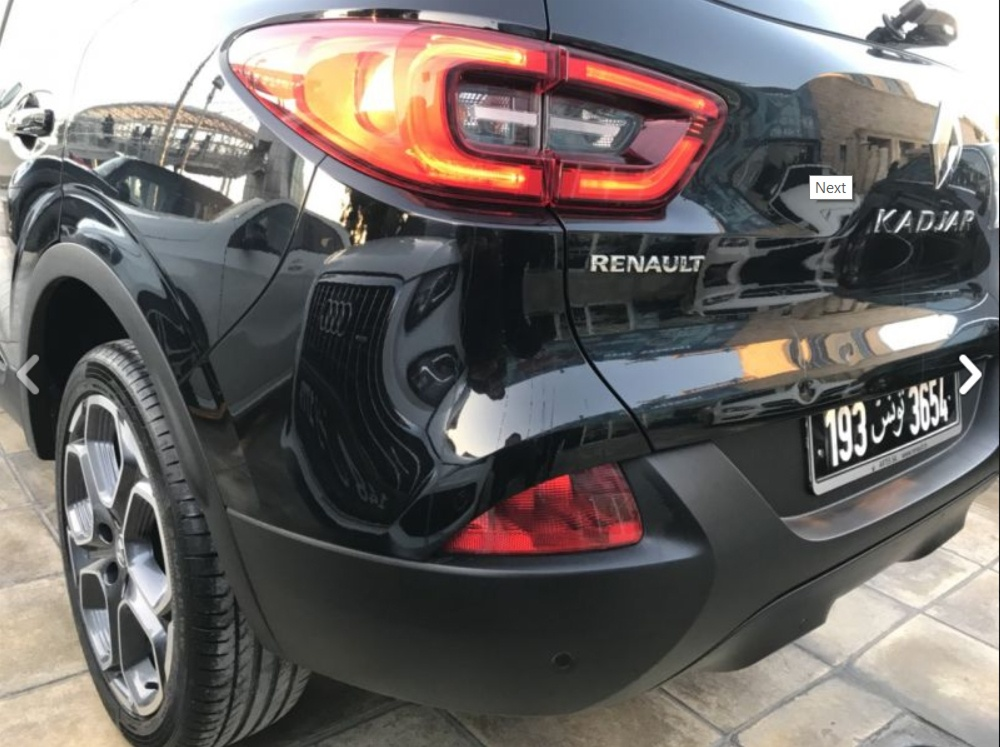LP: (804, 372, 981, 479)
